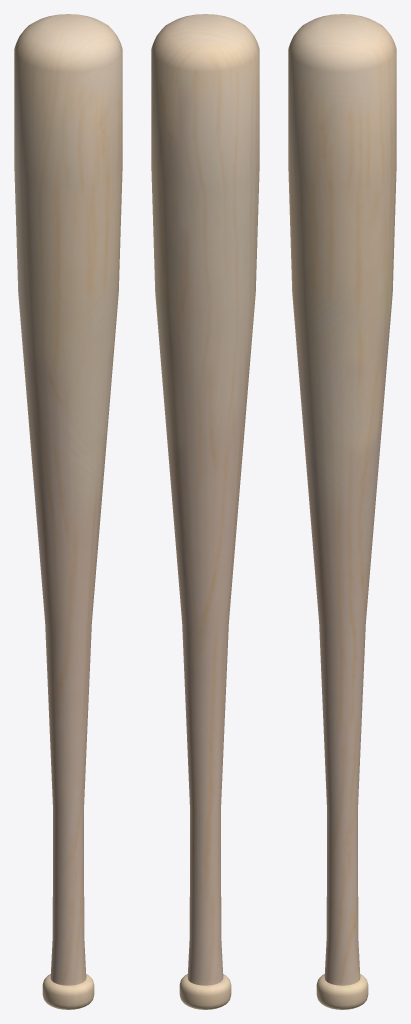
The model's file is Transfer.dae.
3 views of the same model, side by side, from view 1: azimuth 30°, elevation 25°; view 2: azimuth 150°, elevation 25°; view 3: azimuth 330°, elevation 25° (orthographic).
Parts seen in each view (by area): view 1: bat; view 2: bat; view 3: bat.
Boxes of the visible parts, box(x1,y1,x2,y2) form: bat: box(14, 14, 122, 1009); bat: box(151, 14, 259, 1009); bat: box(288, 14, 396, 1009).
Bounding box in the file's own units: 0.0415 × 0.4128 × 0.0415.
